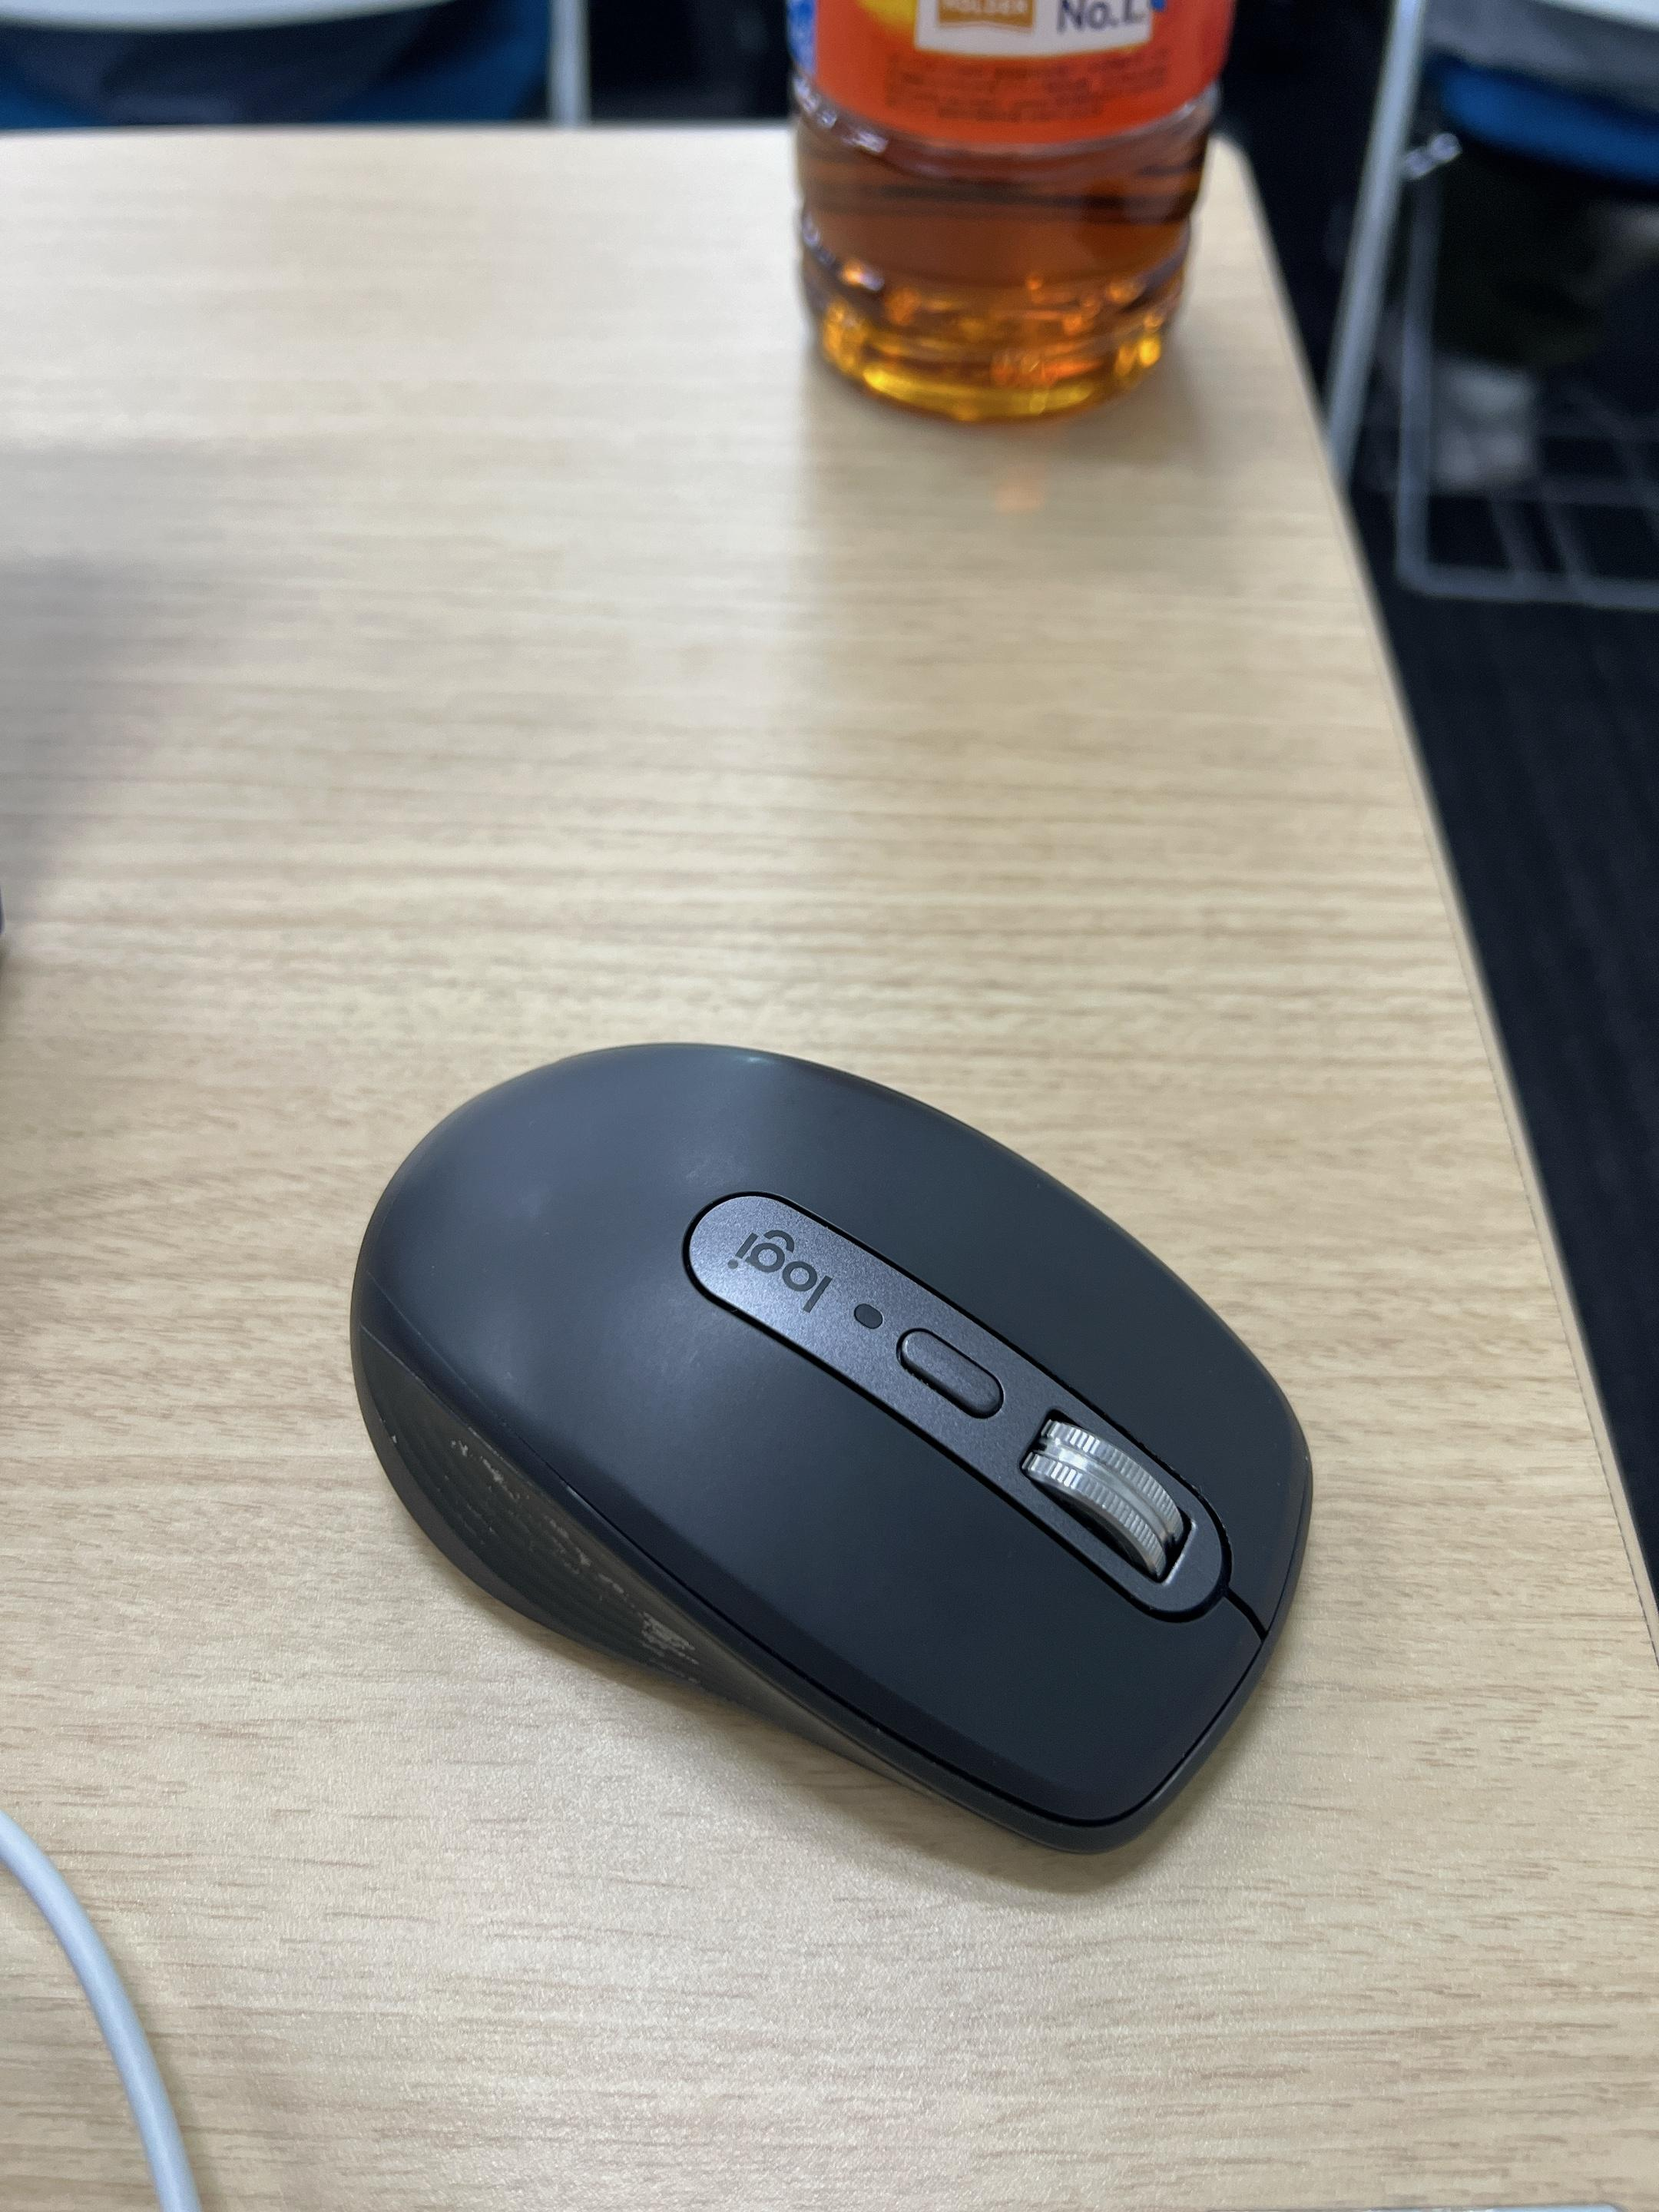mouse: (338, 1015, 1333, 1836)
